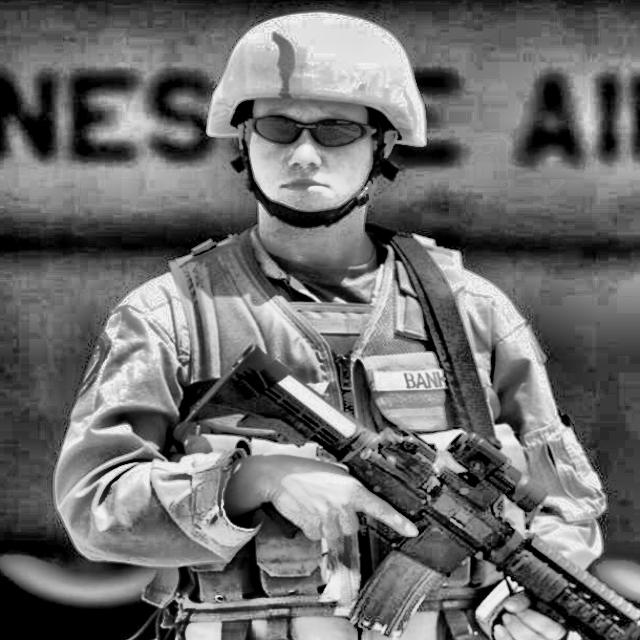Helmet: (199, 6, 436, 234)
